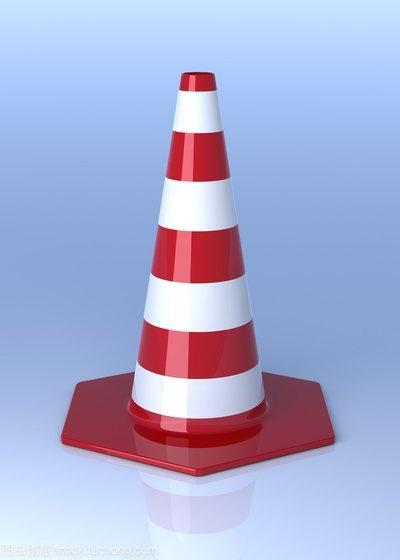cone_barrel: (111, 69, 279, 451)
